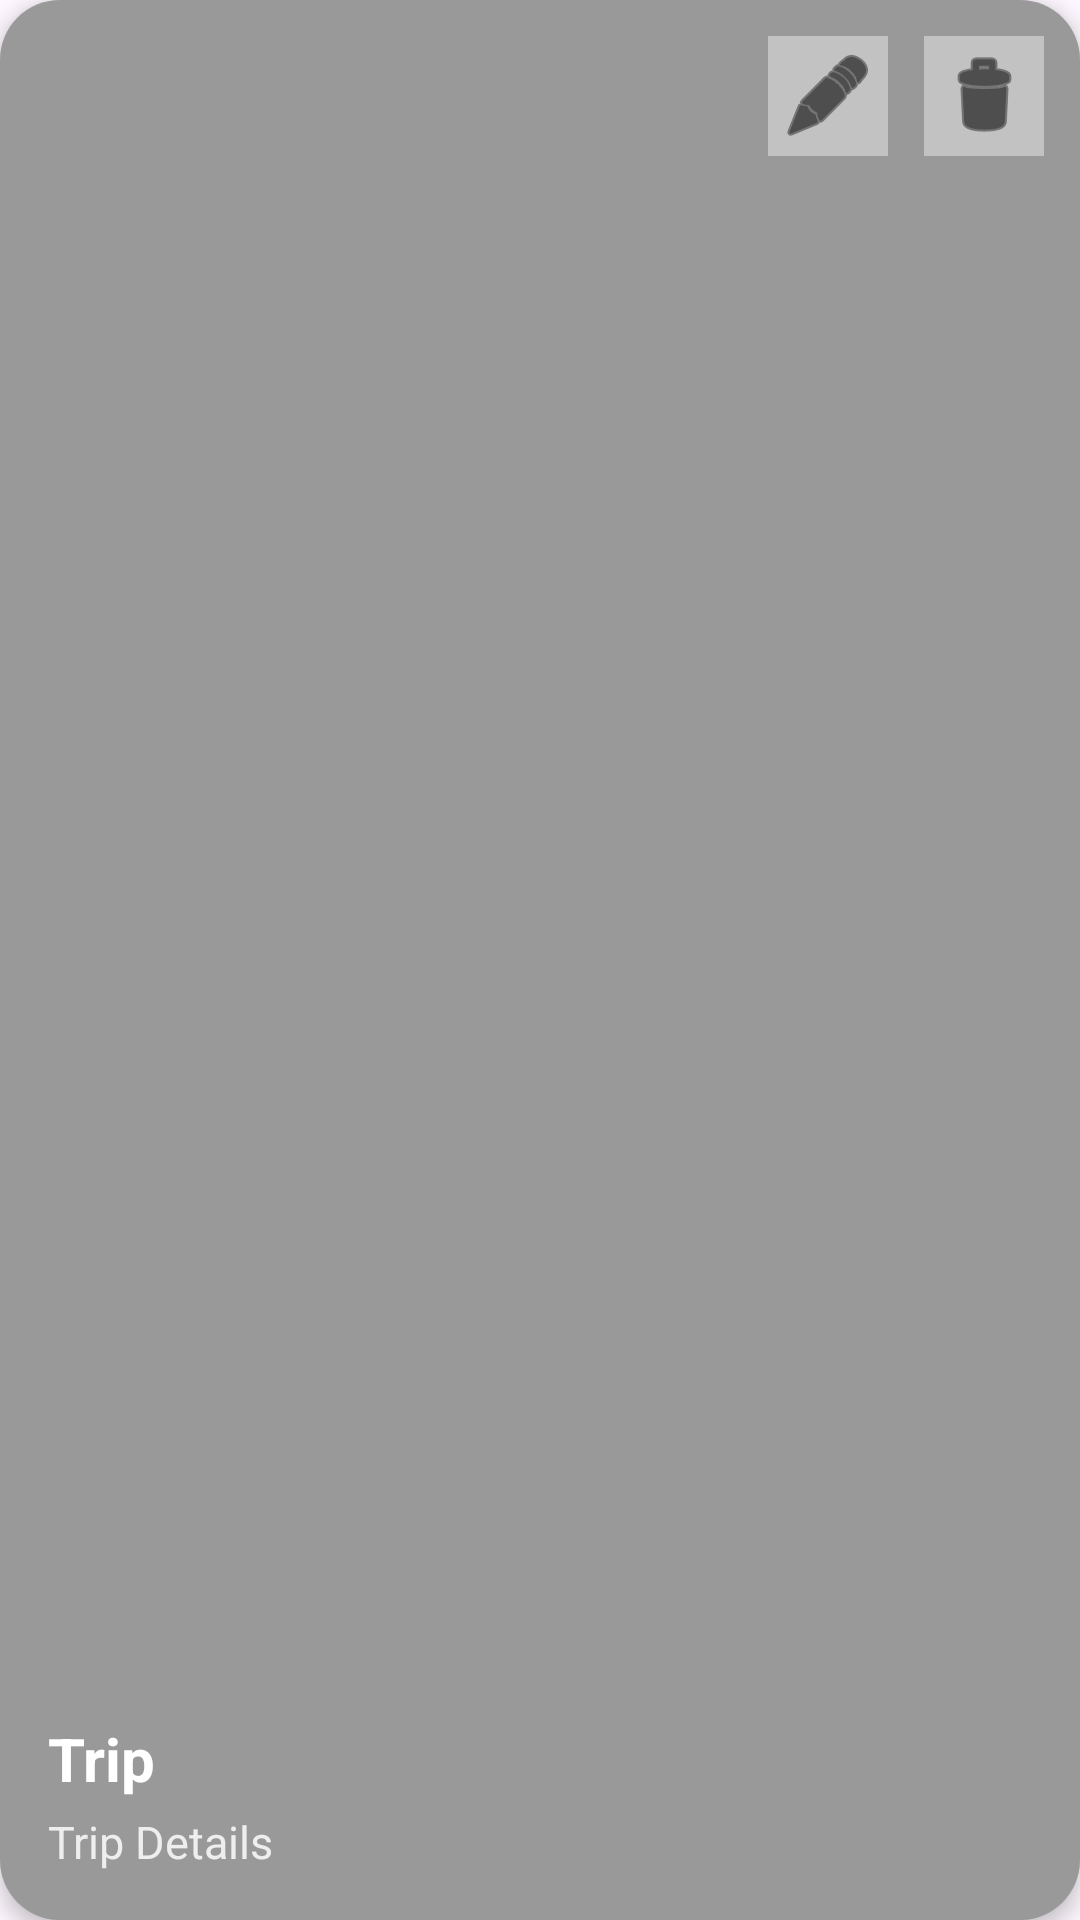

Icons on this 1080*1920 Android screen, each with the point to tap as (x=x, y=y):
delete: (x=984, y=96)
edit: (x=828, y=96)
